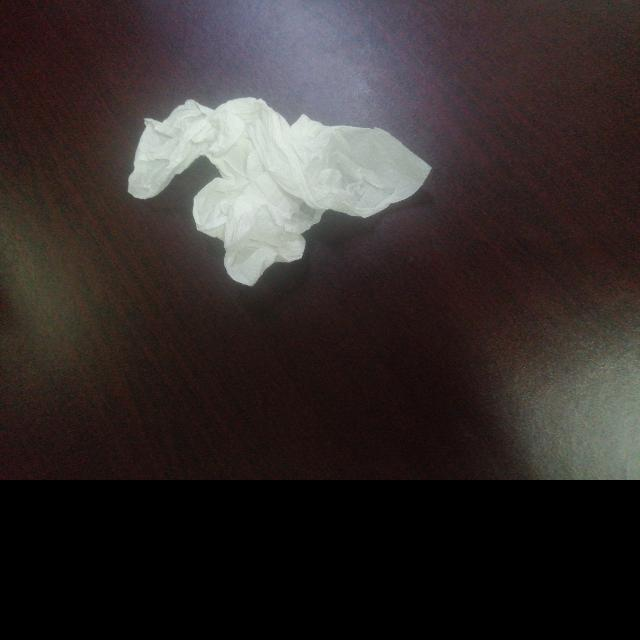kitchen paper: (119, 92, 439, 302)
